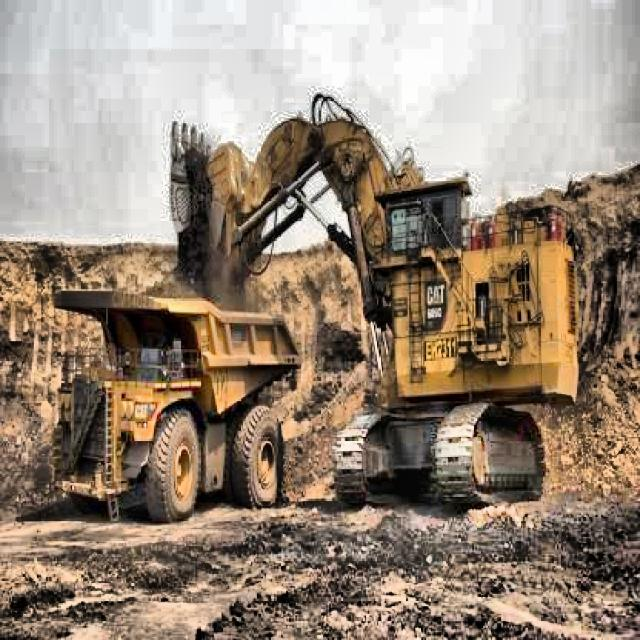dump_truck: (43, 266, 294, 531)
excavator: (157, 86, 590, 542)
